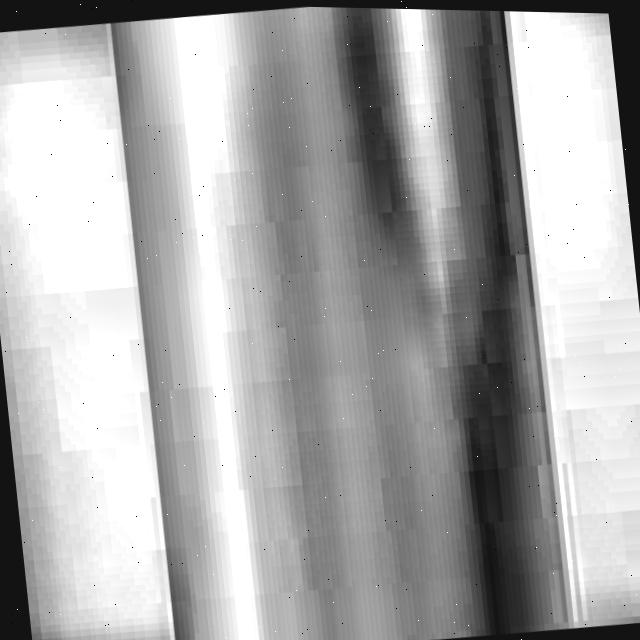metal: (95, 2, 584, 640)
